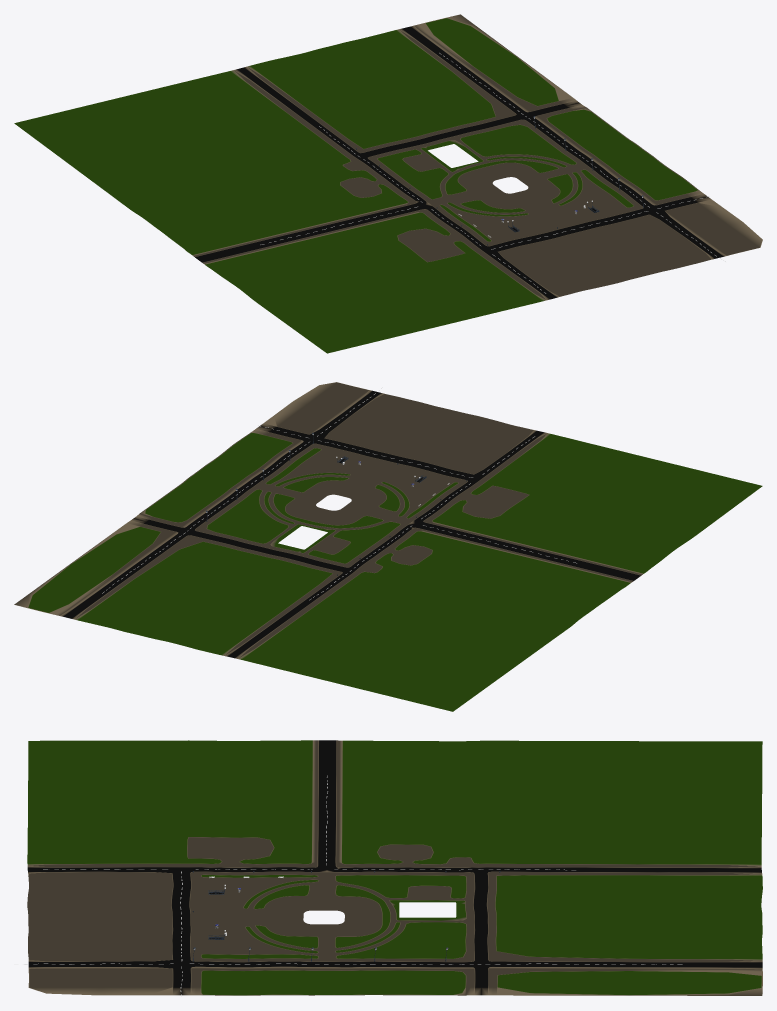
Rendered from ground_only.FBX.
The picture shows the model from 3 angles, top to bottom: view 1: azimuth 30°, elevation 25°; view 2: azimuth 150°, elevation 25°; view 3: azimuth 270°, elevation 25°; orthographic projection. The views are drawn at different scales.
Parts seen in each view (by area): view 1: s_set_ground_geo_001; view 2: s_set_ground_geo_001; view 3: s_set_ground_geo_001, Shape001.
Boxes of the visible parts, <box> form: s_set_ground_geo_001: <box>14,14,762,353</box>; s_set_ground_geo_001: <box>14,382,762,711</box>; s_set_ground_geo_001: <box>27,740,762,995</box>; Shape001: <box>14,775,682,996</box>.
Size of the model in its own units: 43389 by 2078 by 53611.
